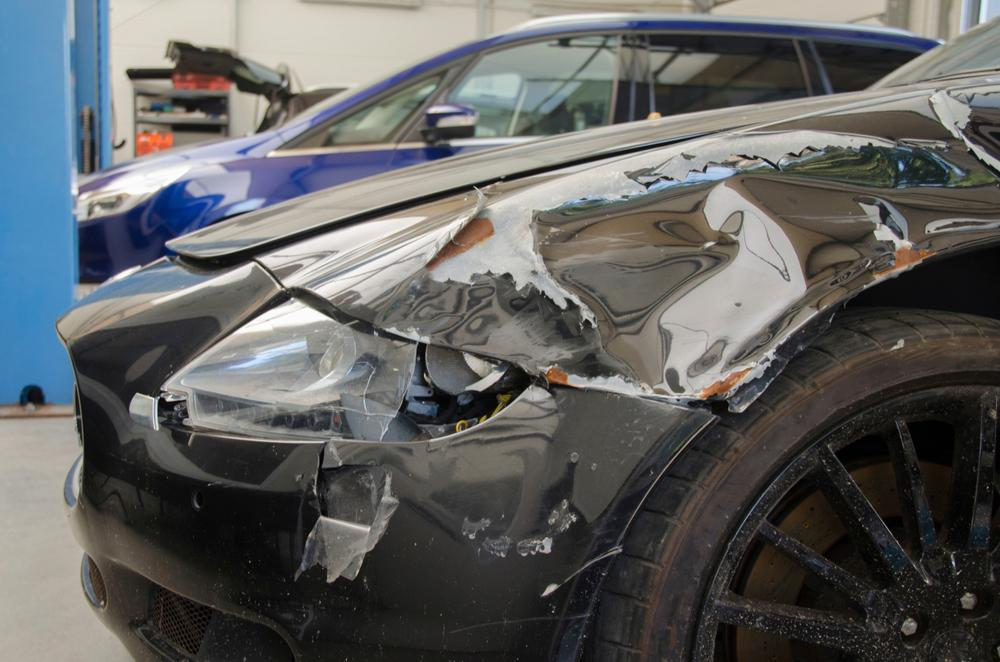crack: (315, 441, 379, 519)
dent: (376, 134, 1000, 399)
lamp broken: (164, 298, 536, 441)
scratch: (458, 495, 578, 566)
